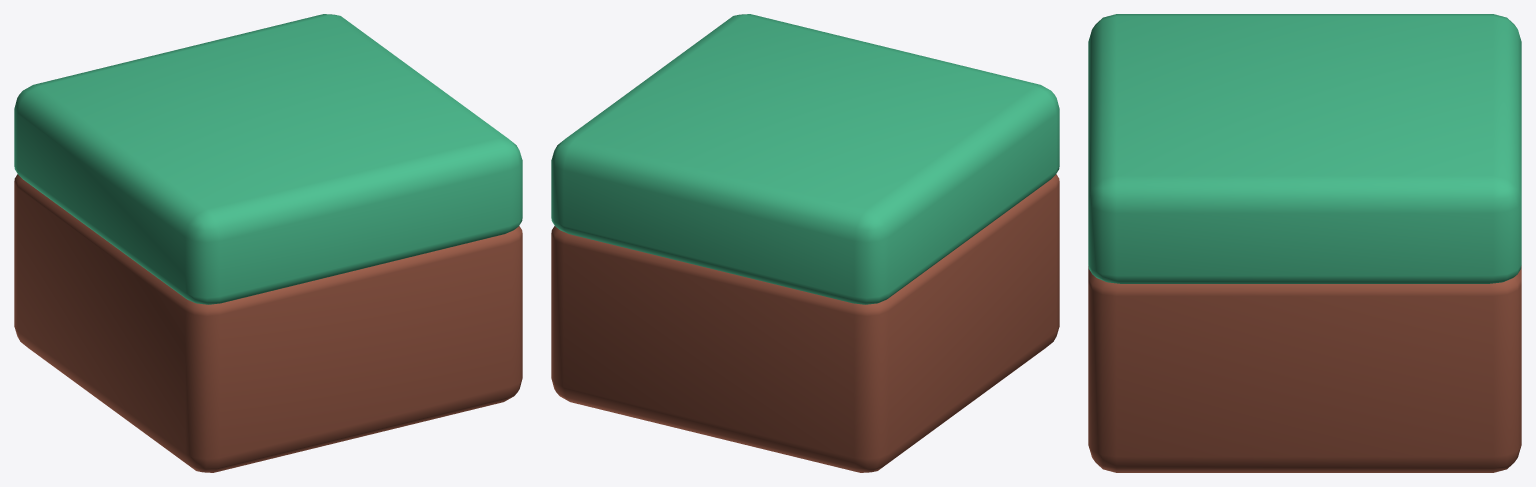
File: tileMedium_forest.glb
3 renders of one model, left to right at view 1: azimuth 30°, elevation 25°; view 2: azimuth 150°, elevation 25°; view 3: azimuth 270°, elevation 25°, orthographic. The views are drawn at different scales.
Parts seen in each view (by area): view 1: tileMedium_forest; view 2: tileMedium_forest; view 3: tileMedium_forest.
Boxes of the visible parts, x1=… form: tileMedium_forest: x1=14, y1=14, x2=522, y2=472; tileMedium_forest: x1=551, y1=14, x2=1059, y2=472; tileMedium_forest: x1=1088, y1=14, x2=1521, y2=472.
Bounding box in the file's own units: 2 × 1.5 × 2.
